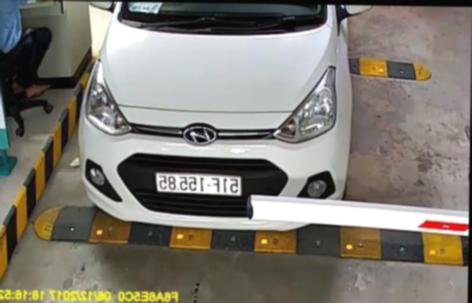License_Plate: (154, 171, 244, 200)
